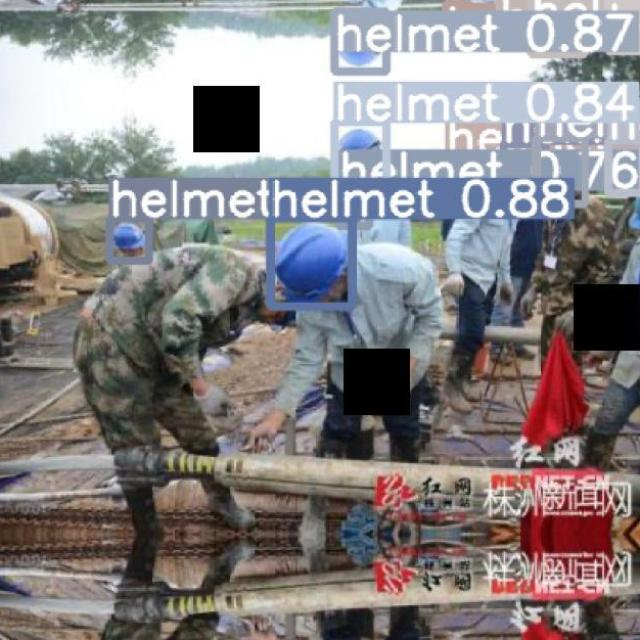helmet: (274, 223, 347, 300), (113, 222, 145, 251)
